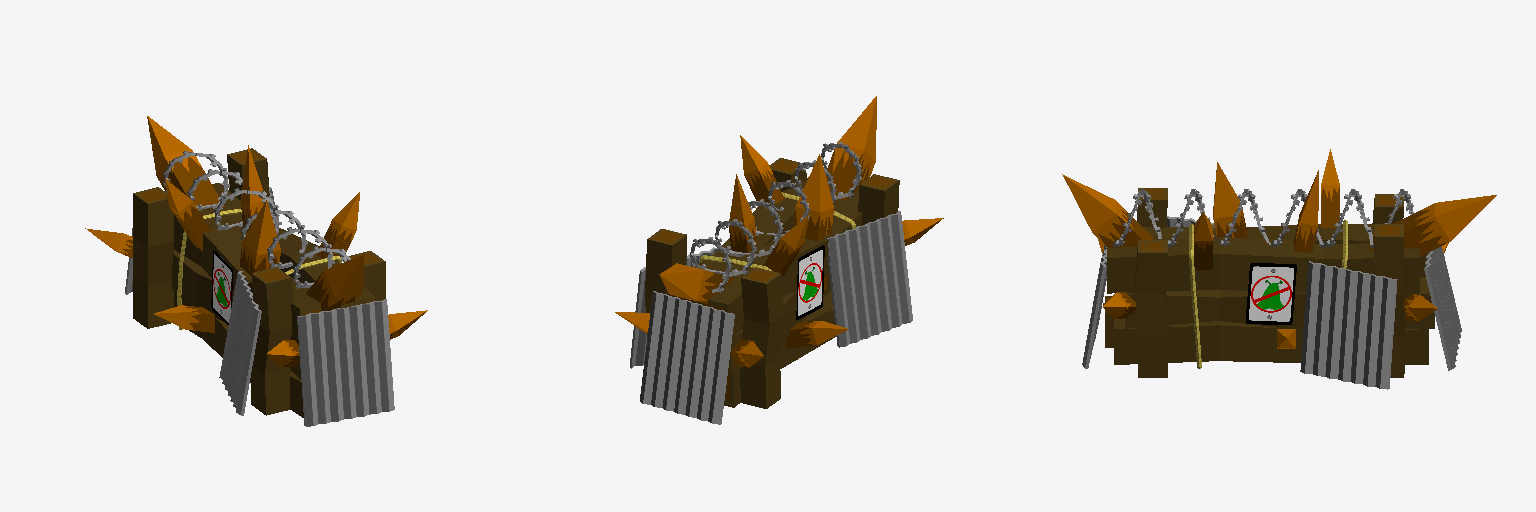
The picture shows the model from 3 angles: view 1: azimuth 30°, elevation 25°; view 2: azimuth 150°, elevation 25°; view 3: azimuth 270°, elevation 25°; orthographic projection.
Parts seen in each view (by area): view 1: Barricade_Cube.001, Metal_Sheets_Cube, Spikes_Cube.027, Barbed_Wire_Cube.006; view 2: Metal_Sheets_Cube, Barricade_Cube.001, Spikes_Cube.027, Barbed_Wire_Cube.006; view 3: Barricade_Cube.001, Metal_Sheets_Cube, Spikes_Cube.027, Barbed_Wire_Cube.006.
Boxes of the visible parts, box(x1,y1,x2,y2) form: Barricade_Cube.001: box(133, 148, 385, 417); Metal_Sheets_Cube: box(125, 183, 394, 426); Spikes_Cube.027: box(85, 116, 427, 366); Barbed_Wire_Cube.006: box(163, 151, 350, 288); Metal_Sheets_Cube: box(630, 211, 912, 424); Barricade_Cube.001: box(645, 158, 899, 408); Spikes_Cube.027: box(615, 96, 943, 367); Barbed_Wire_Cube.006: box(690, 142, 862, 292); Barricade_Cube.001: box(1105, 188, 1434, 377); Metal_Sheets_Cube: box(1082, 216, 1461, 389); Spikes_Cube.027: box(1062, 149, 1496, 348); Barbed_Wire_Cube.006: box(1113, 189, 1413, 247).
Size of the model in its own units: 6.14 by 5.97 by 12.52.
4 materials, 3 textured.